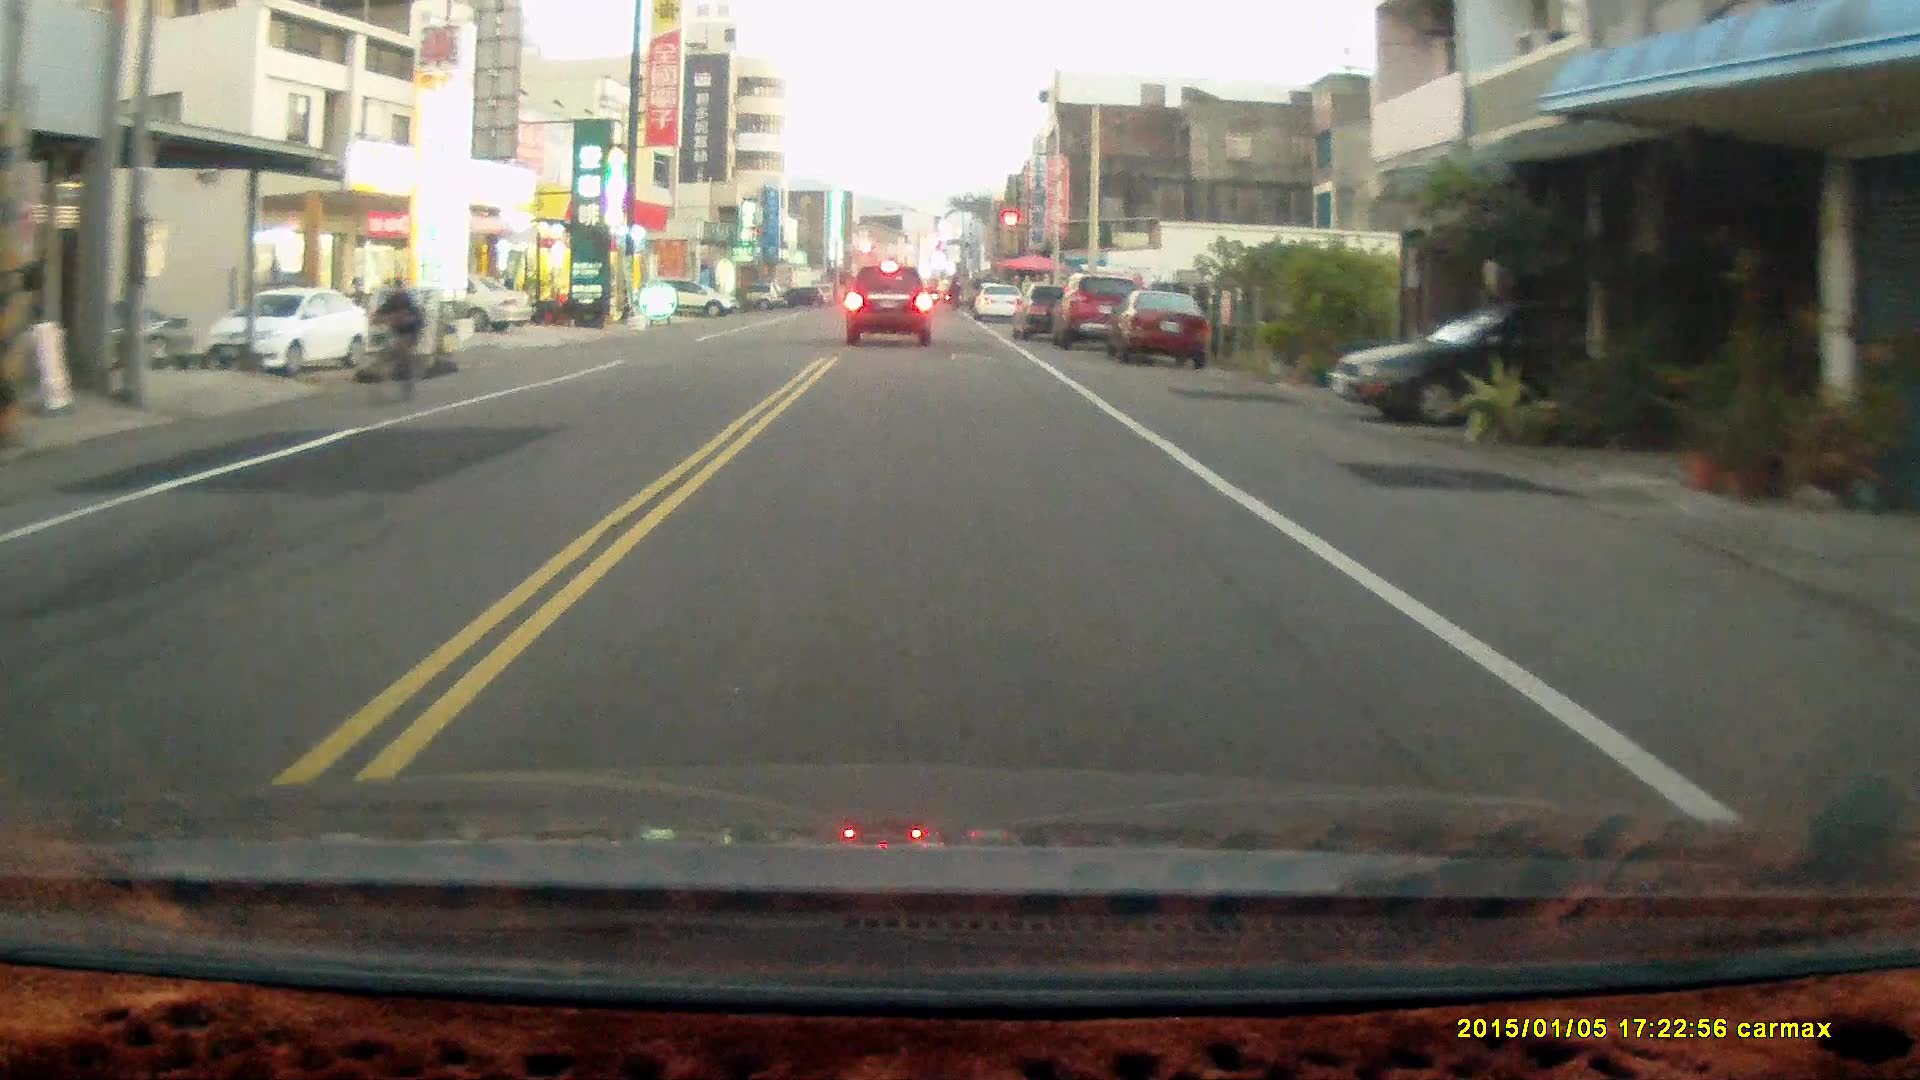rider: (368, 274, 419, 407)
vehicle: (1330, 296, 1729, 424), (210, 288, 372, 379), (1101, 286, 1215, 371), (374, 272, 537, 330), (844, 263, 938, 347), (1053, 273, 1147, 351), (652, 275, 736, 320)
